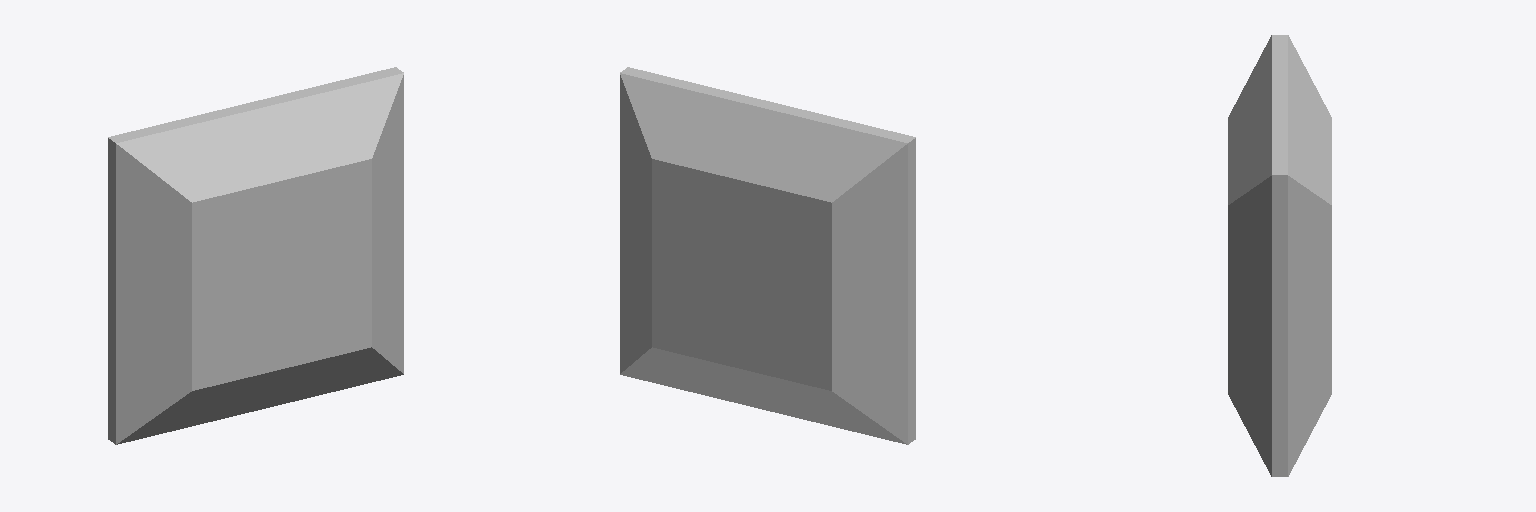
File: BurgerPrism.obj
3 views of the same model, side by side, from view 1: azimuth 30°, elevation 25°; view 2: azimuth 150°, elevation 25°; view 3: azimuth 270°, elevation 25° (orthographic).
Size of the model in its own units: 0.08 by 0.08 by 0.025.